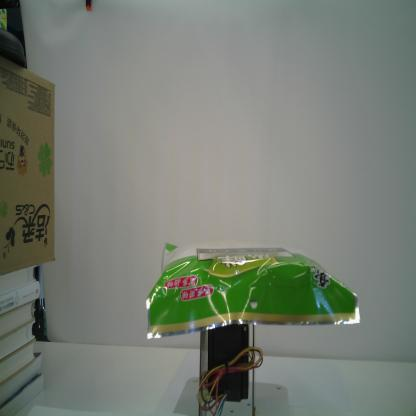Dried Food: (147, 240, 361, 341)
